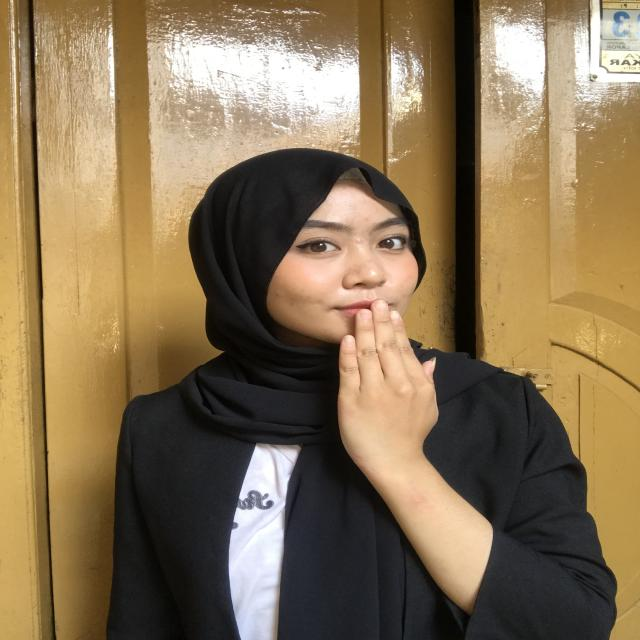ganteng: (327, 297, 463, 482)
